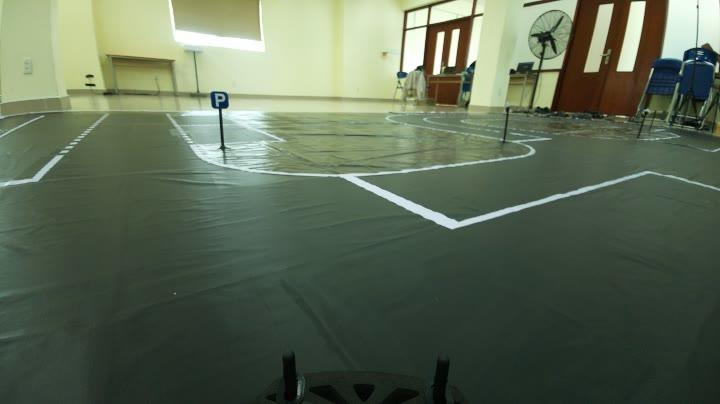parking: (203, 84, 233, 113)
